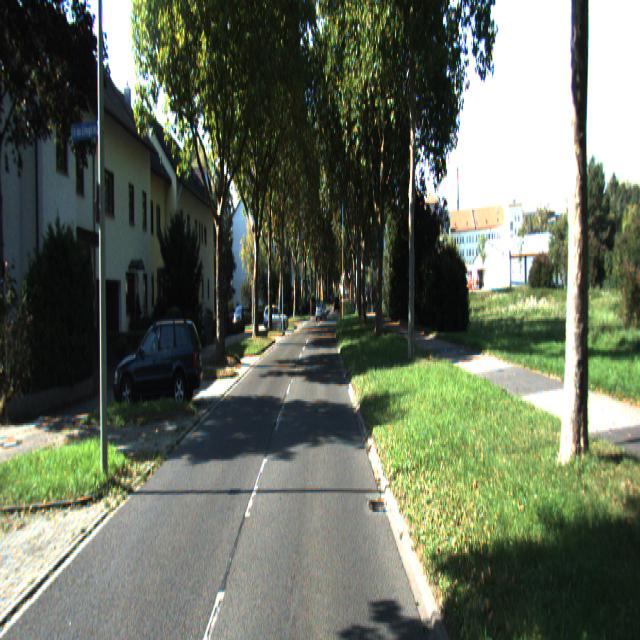Car: (112, 318, 206, 418), (262, 305, 289, 332)
